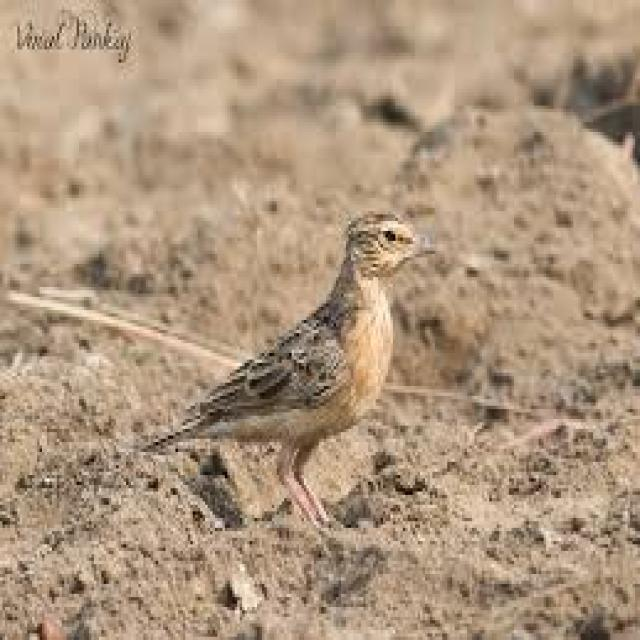bird: (130, 207, 421, 536)
